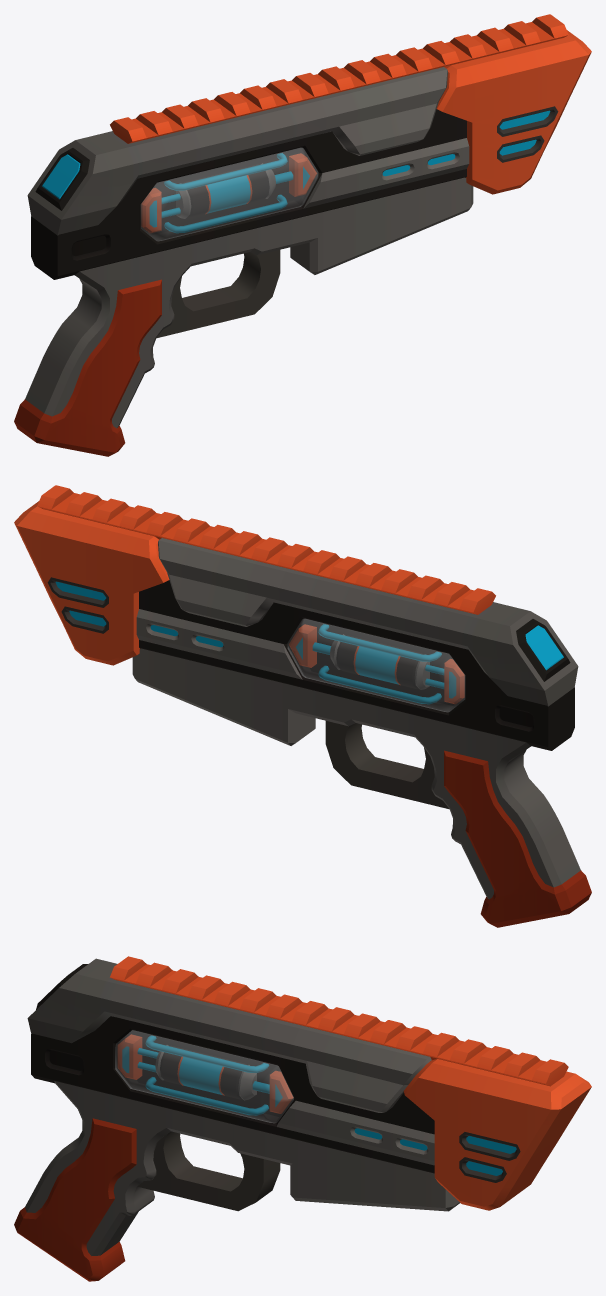
3 renders of one model, top to bottom at view 1: azimuth 30°, elevation 25°; view 2: azimuth 150°, elevation 25°; view 3: azimuth 330°, elevation 25°, orthographic.
Visible parts, largest first — view 1: AR3_Base; view 2: AR3_Base; view 3: AR3_Base.
Boxes of the visible parts, x1,y1,x2,y2 form: AR3_Base: [14, 14, 591, 456]; AR3_Base: [14, 485, 591, 927]; AR3_Base: [14, 956, 591, 1281].
Size of the model in its own units: 36.28 by 19.99 by 4.84.
